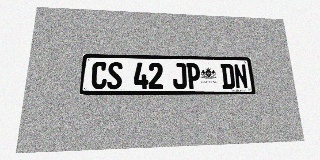2: (149, 62, 163, 89)
4: (134, 62, 148, 89)
C: (91, 62, 108, 89)
D: (220, 64, 235, 89)
J: (172, 63, 187, 89)
N: (233, 64, 248, 89)
P: (186, 63, 201, 89)
S: (107, 62, 123, 89)
